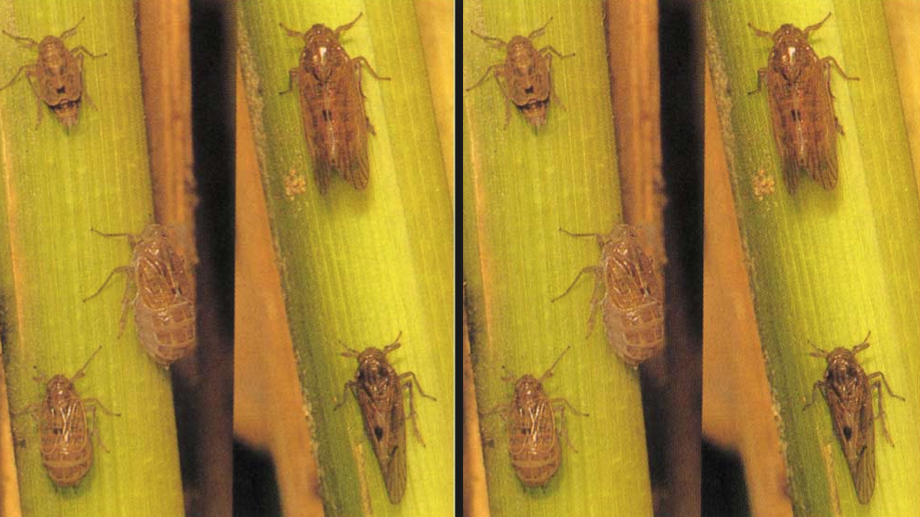Brown_hopper: (735, 21, 863, 201), (265, 30, 398, 179), (795, 339, 904, 499), (330, 343, 426, 499), (570, 216, 672, 362), (103, 228, 202, 358), (26, 359, 94, 491), (470, 28, 572, 116), (6, 28, 100, 120), (507, 368, 557, 489)
